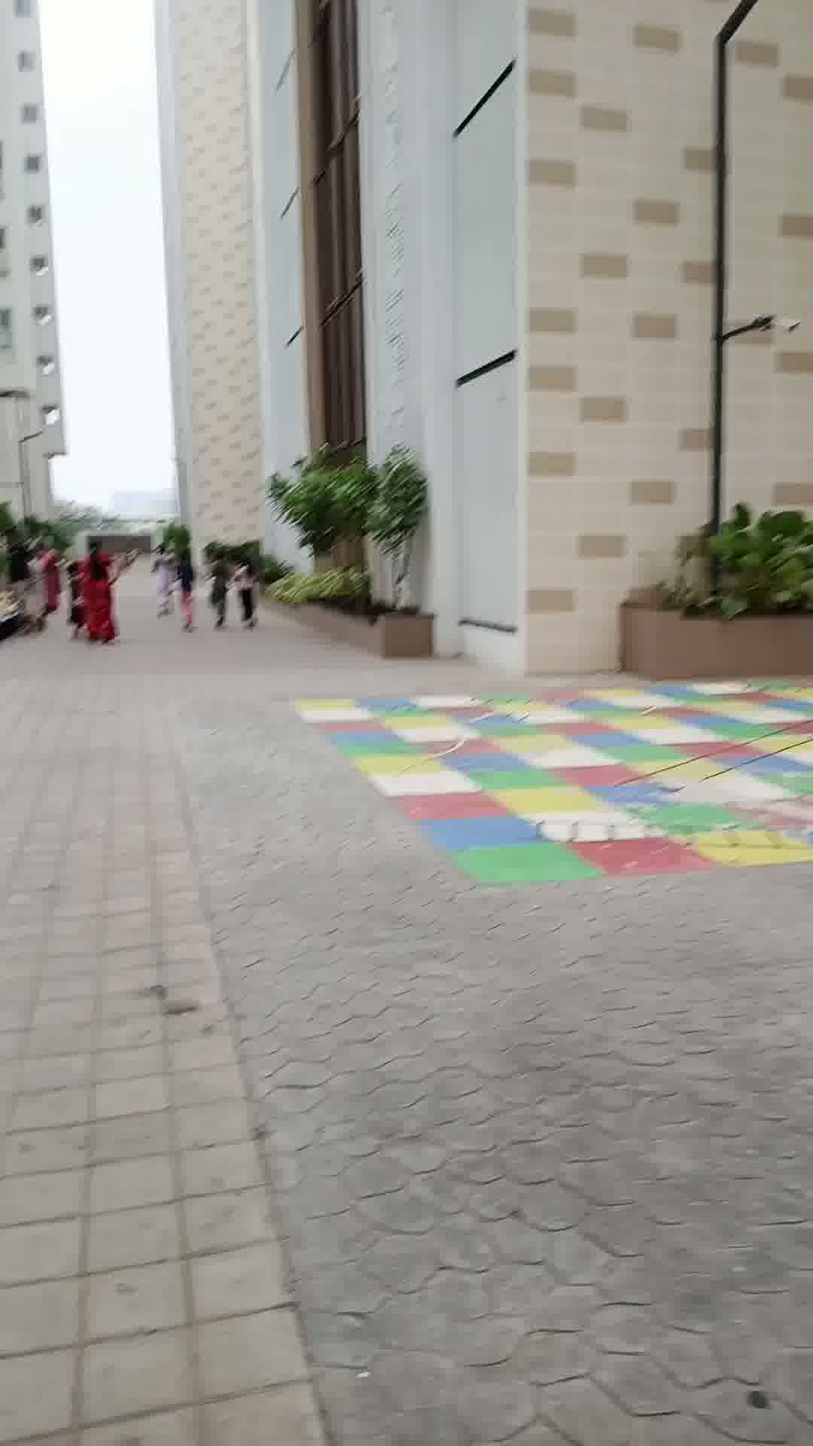person: (84, 526, 125, 661), (3, 524, 43, 641), (202, 541, 242, 646), (171, 549, 203, 648)
tree: (265, 421, 387, 618), (347, 433, 441, 629)
